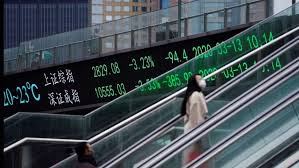mask: (191, 70, 207, 91), (83, 141, 98, 158)
